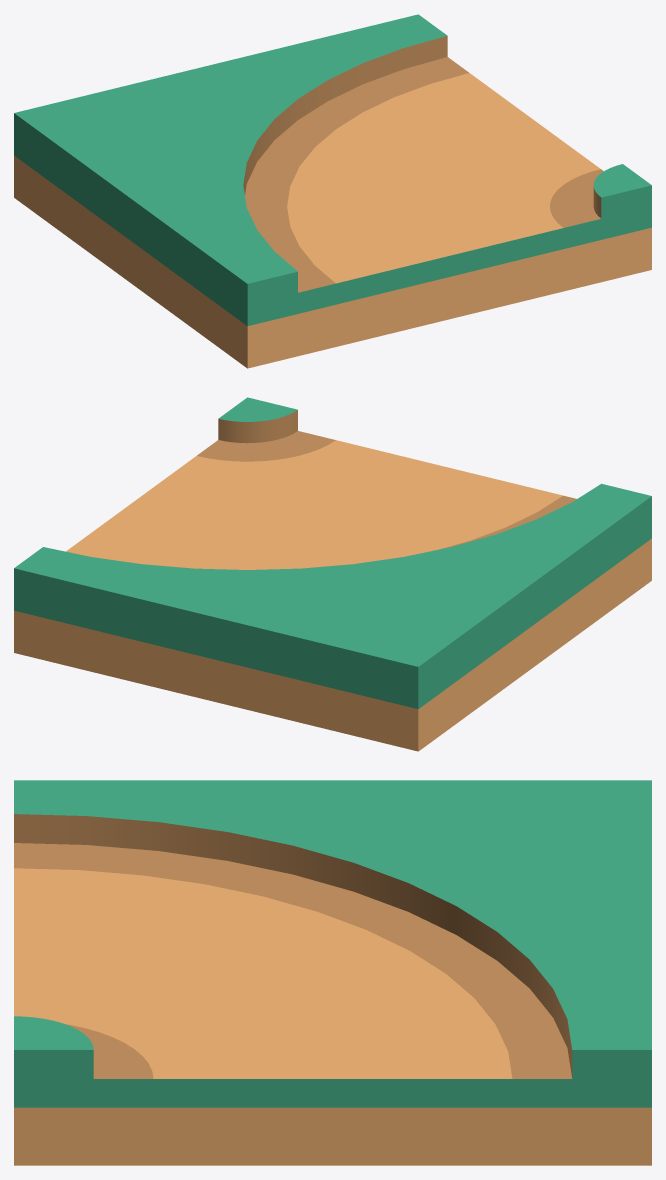
File: tile_cornerRound.fbx
3 renders of one model, top to bottom at view 1: azimuth 30°, elevation 25°; view 2: azimuth 150°, elevation 25°; view 3: azimuth 270°, elevation 25°, orthographic. The views are drawn at different scales.
Parts seen in each view (by area): view 1: tile_cornerRound; view 2: tile_cornerRound; view 3: tile_cornerRound.
Part boxes in pixels (x1,y1,x2,y2): tile_cornerRound: [14, 14, 651, 368]; tile_cornerRound: [14, 397, 651, 751]; tile_cornerRound: [14, 780, 651, 1165].
Bounding box in the file's own units: 10 × 2 × 10.
